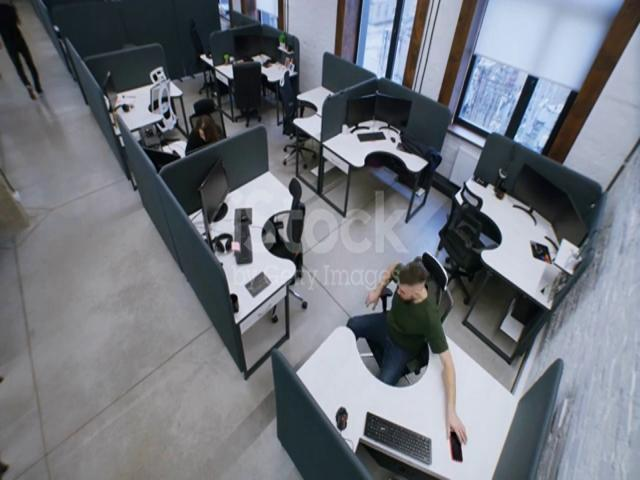EMPTY_CHAIR: (457, 162, 492, 314), (176, 6, 228, 104), (278, 172, 313, 300), (140, 49, 188, 135), (279, 67, 309, 177), (236, 59, 280, 130)
PERSON_IN_CHAIR: (355, 231, 461, 389), (188, 93, 239, 158)
